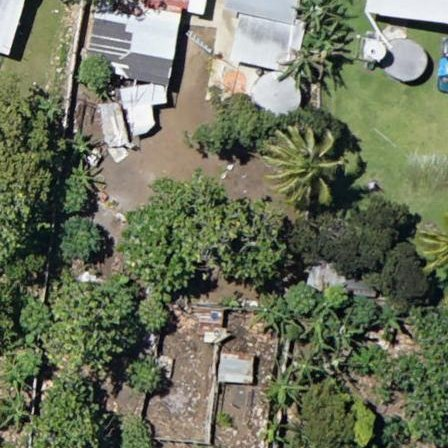palm_tree: (263, 124, 343, 209)
